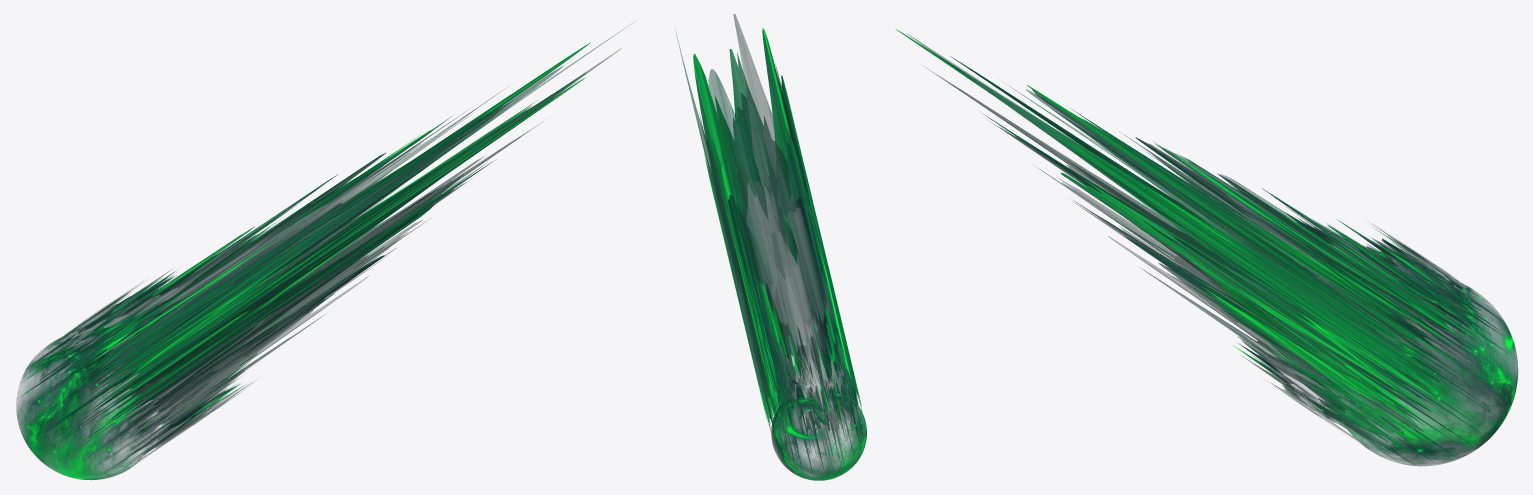
File: comet_new2.glb
3 renders of one model, left to right at view 1: azimuth 30°, elevation 25°; view 2: azimuth 150°, elevation 25°; view 3: azimuth 270°, elevation 25°, orthographic. The views are drawn at different scales.
Parts seen in each view (by area): view 1: Object_2; view 2: Object_2; view 3: Object_2.
Boxes of the visible parts, box(x1,y1,x2,y2) form: Object_2: box(16, 24, 630, 480); Object_2: box(676, 14, 866, 480); Object_2: box(896, 29, 1518, 466).
Bounding box in the file's own units: 14.17 × 14.62 × 13.04.
Materials: 1 (1 with a texture image).
